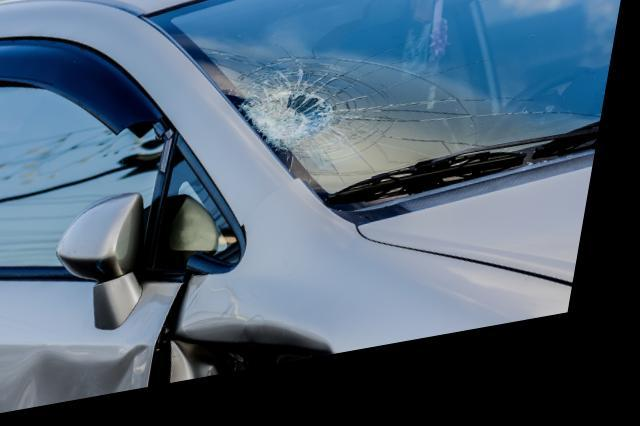dent: (191, 332, 348, 389), (22, 351, 161, 415)
dislocated part: (158, 292, 203, 396)
glass shatter: (149, 0, 628, 211)
